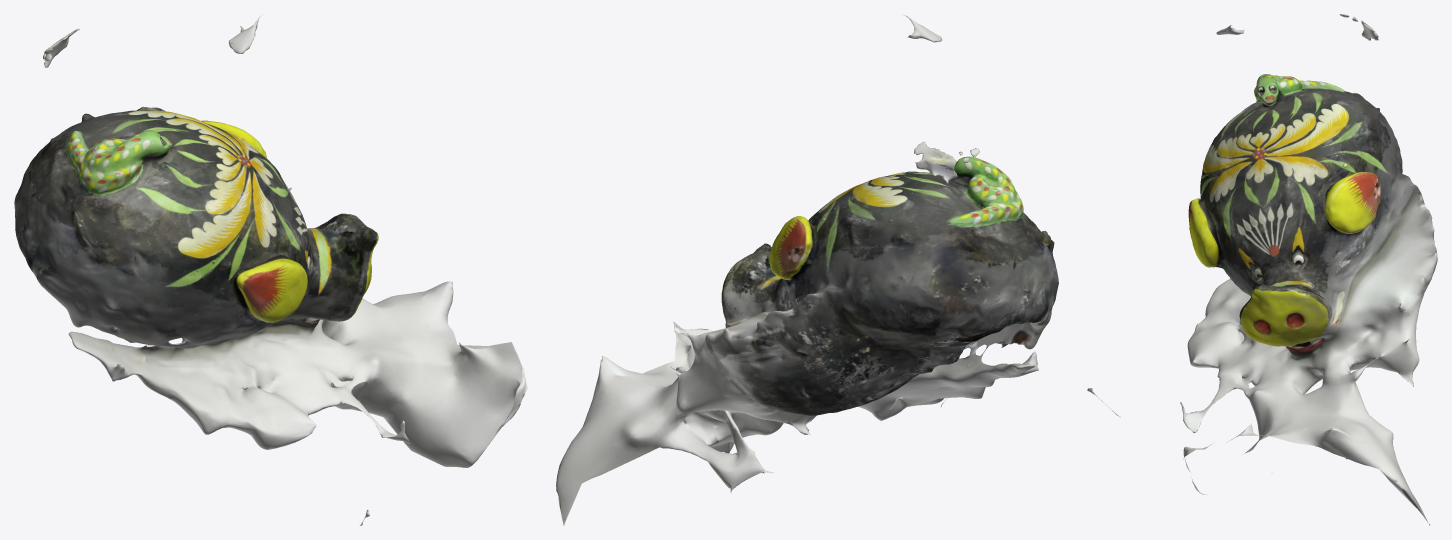
3 views of the same model, side by side, from view 1: azimuth 30°, elevation 25°; view 2: azimuth 150°, elevation 25°; view 3: azimuth 270°, elevation 25° (orthographic). The views are drawn at different scales.
Bounding box in the file's own units: 1.08 × 1.17 × 0.9083.
Materials: 1 (1 with a texture image).
